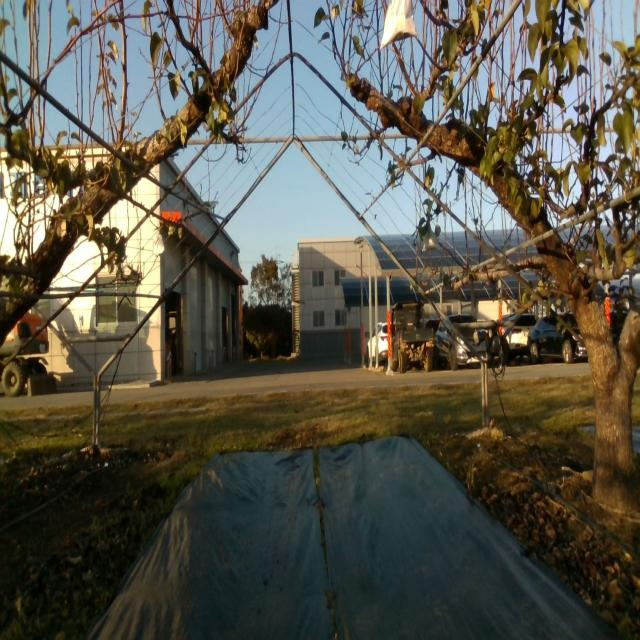pearbags: (379, 0, 418, 55), (422, 229, 440, 253), (152, 233, 165, 256)
